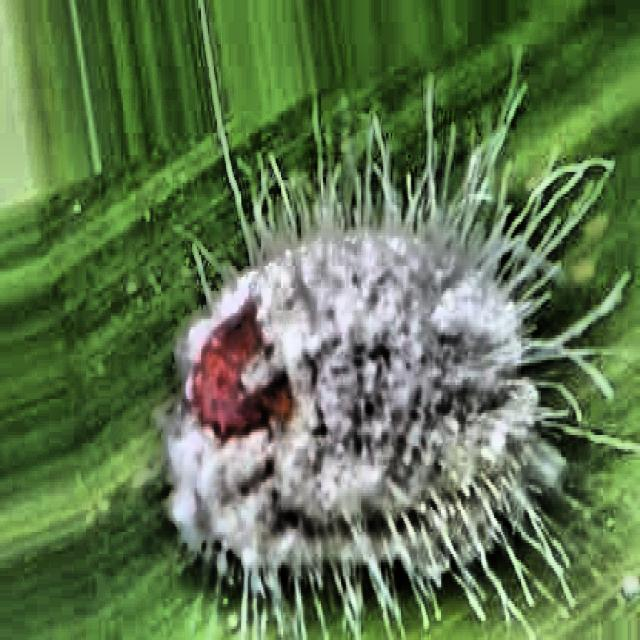Mealy-bug: (129, 99, 588, 640)
